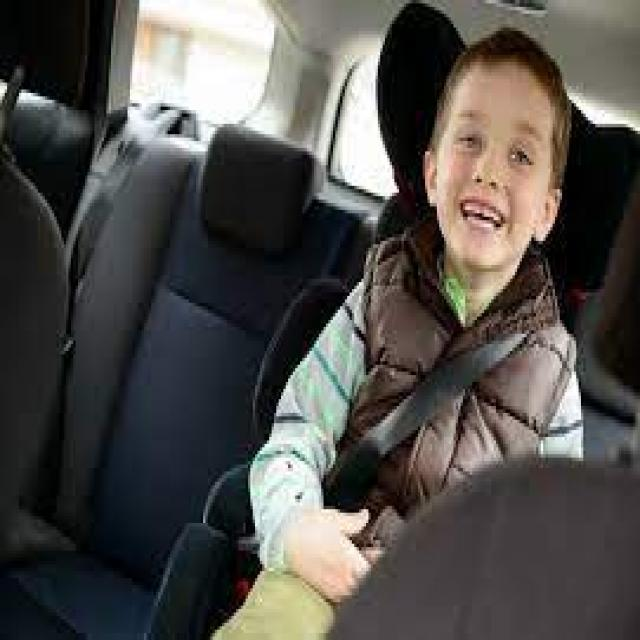seatbelt: (326, 279, 595, 506), (52, 103, 185, 358)
